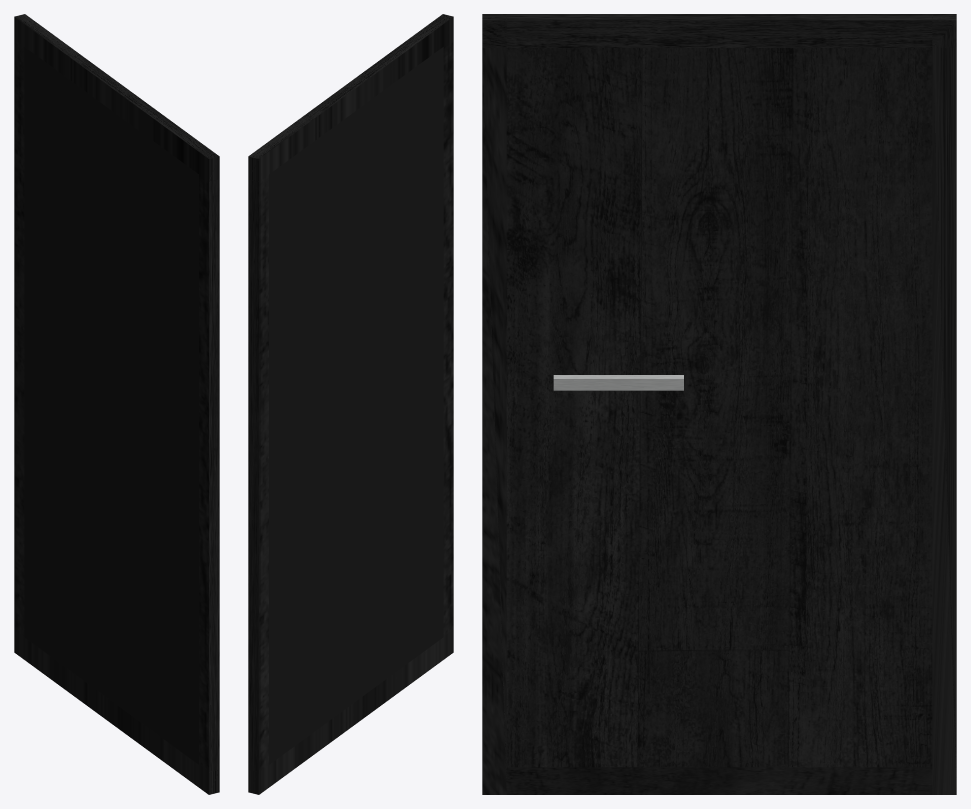
The model's file is Kast_DoorRight2.fbx.
3 renders of one model, left to right at view 1: azimuth 30°, elevation 25°; view 2: azimuth 150°, elevation 25°; view 3: azimuth 270°, elevation 25°, orthographic. The views are drawn at different scales.
Visible parts, largest first — view 1: hendel.004; view 2: hendel.004; view 3: hendel.004.
Part boxes in pixels (x1,y1,x2,y2): hendel.004: [14, 14, 219, 794]; hendel.004: [248, 14, 453, 794]; hendel.004: [482, 14, 956, 794].
Bounding box in the file's own units: 4.03 × 140 × 77.9.
